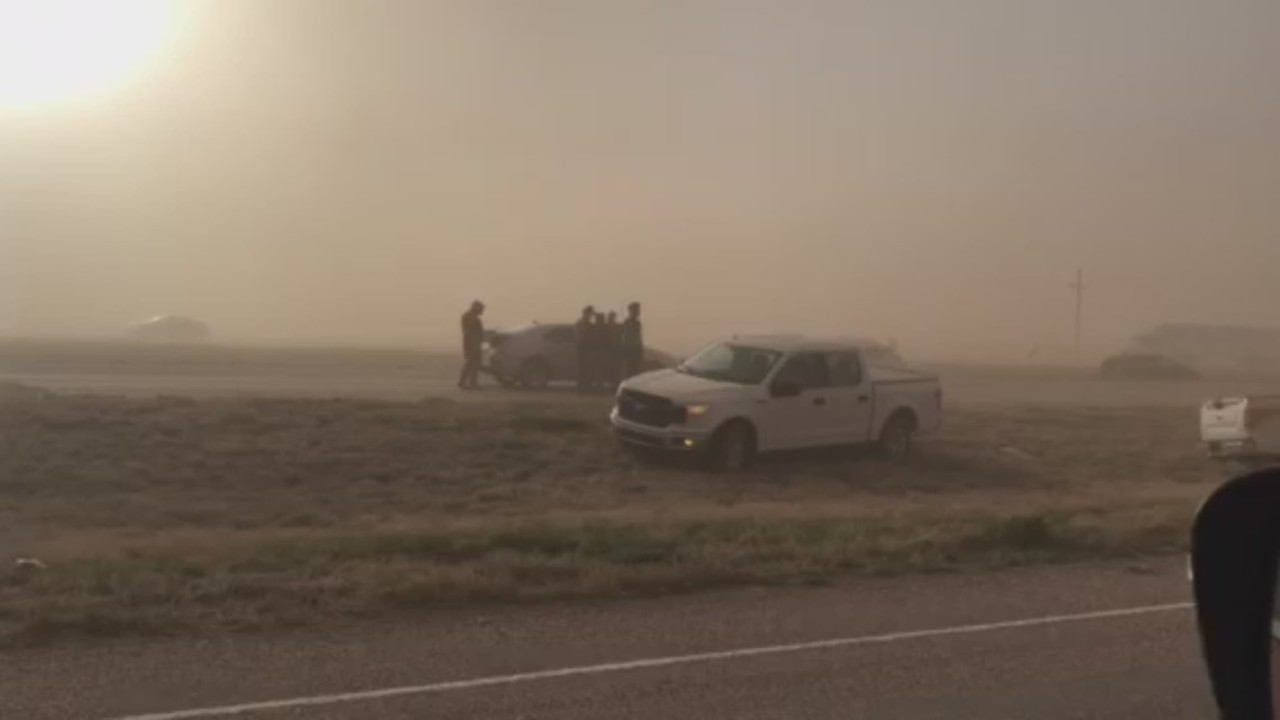car: (610, 334, 945, 474), (480, 317, 701, 392), (121, 312, 206, 337)
person: (459, 301, 485, 396), (574, 302, 593, 394), (608, 308, 625, 399), (624, 302, 643, 379), (593, 313, 606, 395)
